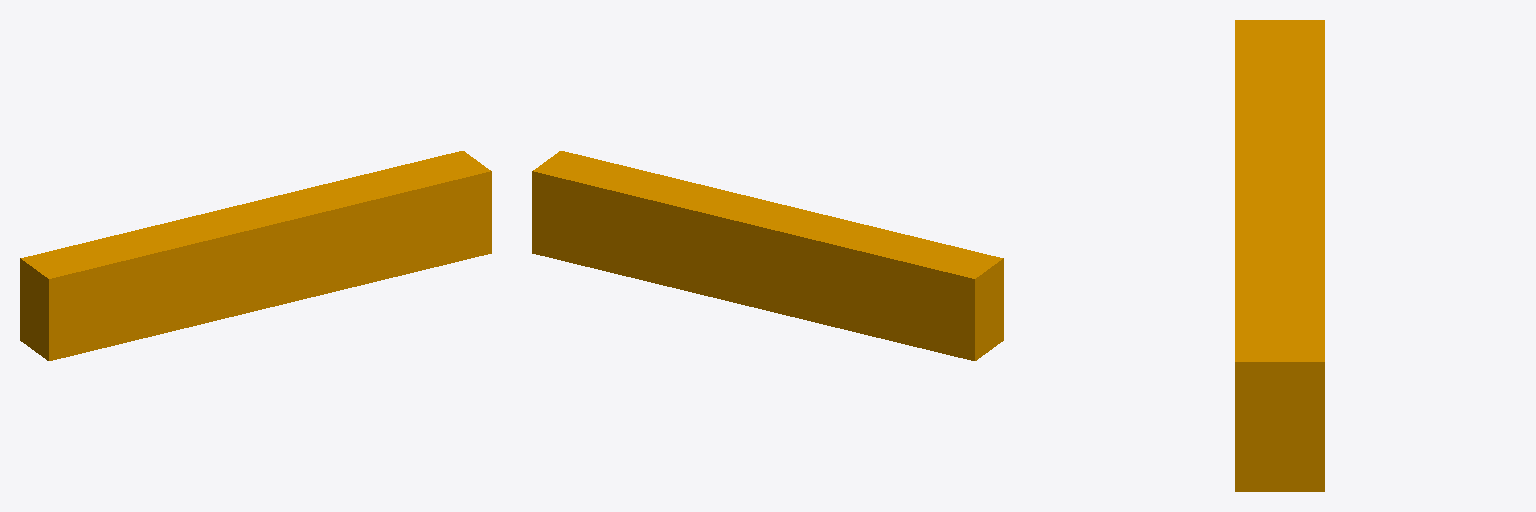
robot.urdf — windowsHorizontal:
<?xml version="1.0"?>
<robot name="windowsHorizontal">
  <link name="base_link">
    <visual>
      <geometry>
        <box size="4.5 0.5 0.8"/>
      </geometry>
  	<origin rpy="0 0 0" xyz="0 0 0.4"/>
    </visual>
    <collision>
      <geometry>
        <box size="4.7 0.7 0.9"/>
      </geometry>
    <origin rpy="0 0 0" xyz="0 0 0.4"/>
    </collision>
  </link>
</robot>

--- Facts derived from the render (not from the file) ---
Views: 3 orthographic renders of the robot side by side, from view 1: azimuth 30°, elevation 25°; view 2: azimuth 150°, elevation 25°; view 3: azimuth 270°, elevation 25°.
Model windowsHorizontal with 1 links and 0 joints (none), rooted at base_link, posed all joints at 0.
Visible links, largest first — view 1: base_link; view 2: base_link; view 3: base_link.
Boxes of the visible links, bbox=[...] form: base_link: bbox=[20, 151, 491, 360]; base_link: bbox=[532, 151, 1003, 360]; base_link: bbox=[1235, 20, 1324, 491].
Bounding box of the posed robot: 4.5 × 0.5 × 0.8 m (x, y, z).
Geometry: primitives only (box / cylinder / sphere), no mesh files.